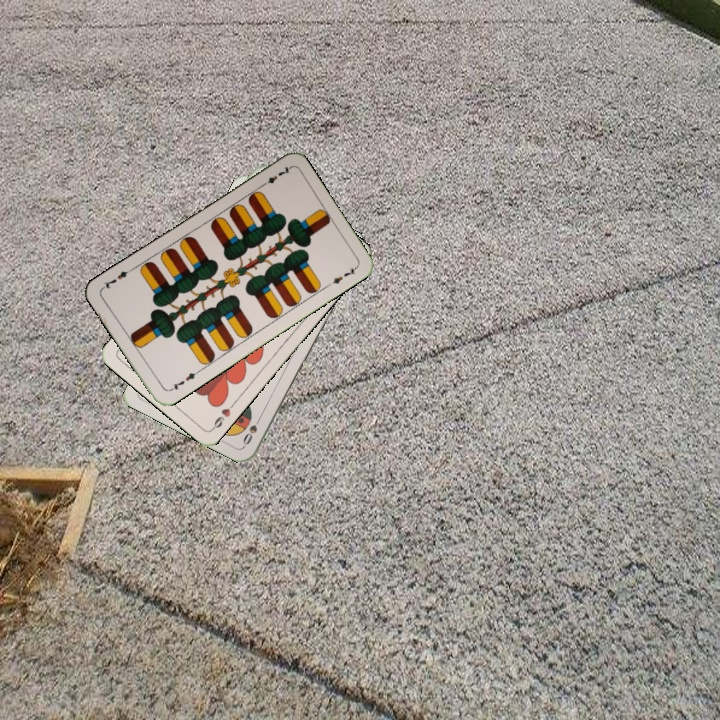E7: (256, 162, 293, 190), (165, 367, 201, 394)
H9: (207, 399, 238, 433)
SO: (239, 411, 264, 448)
